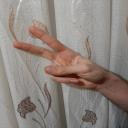PeaceSign: (12, 24, 104, 104)
